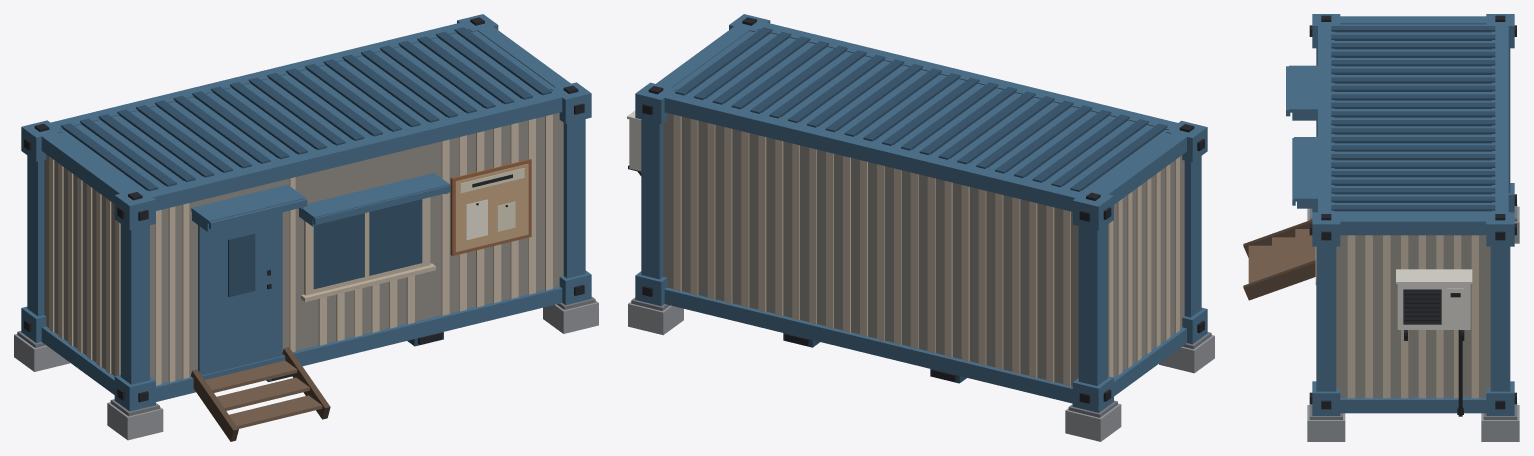
Rendered from site office_container.fbx.
3 views of the same model, side by side, from view 1: azimuth 30°, elevation 25°; view 2: azimuth 150°, elevation 25°; view 3: azimuth 270°, elevation 25° (orthographic). The views are drawn at different scales.
Visible parts, largest first — view 1: BottomRail_Left; view 2: BottomRail_Left; view 3: BottomRail_Left.
Boxes of the visible parts, bbox=[...] form: BottomRail_Left: bbox=[14, 14, 598, 441]; BottomRail_Left: bbox=[627, 14, 1214, 441]; BottomRail_Left: bbox=[1243, 14, 1519, 441].
Bounding box in the file's own units: 650 × 290 × 333.
